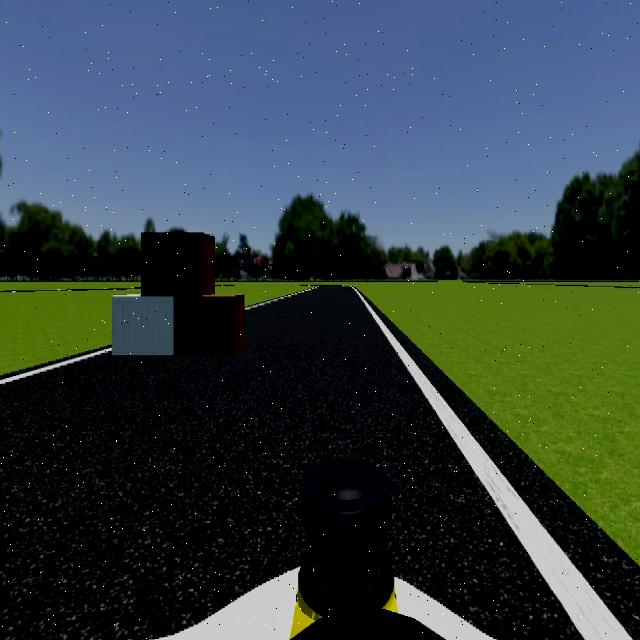road: (0, 289, 578, 640)
solid_line: (357, 293, 632, 640), (0, 348, 110, 388)
